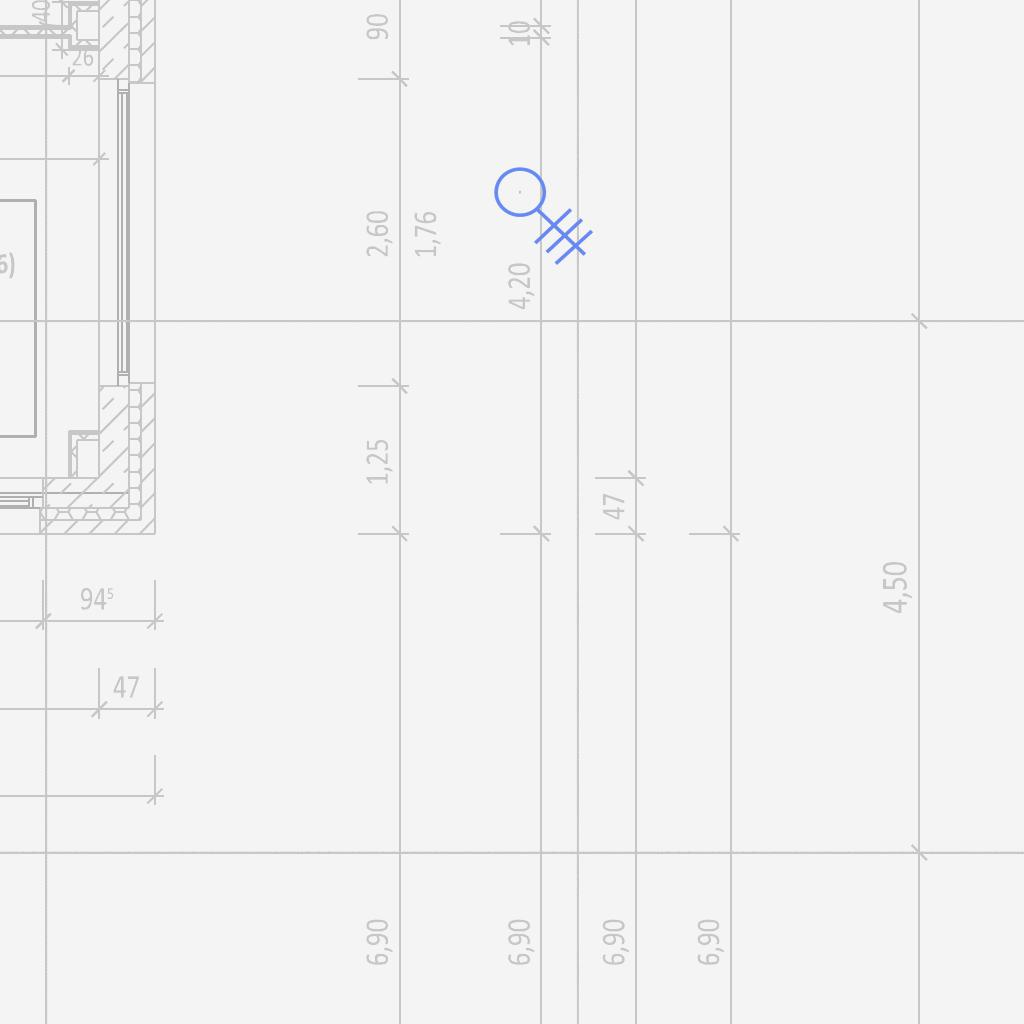Elektroanschluss_allgemein_400V_Geraeteanschlussdose_400V: (493, 150, 606, 266)
